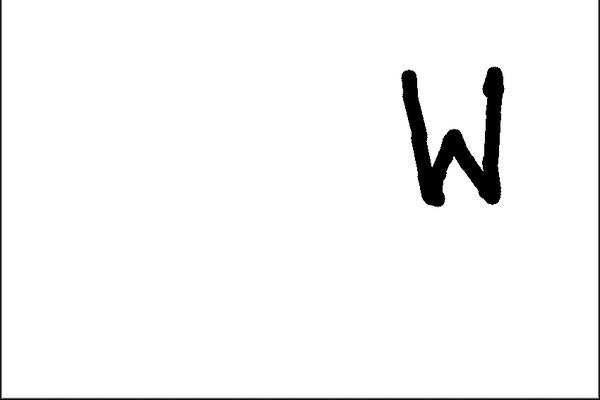w: (380, 39, 536, 240)
